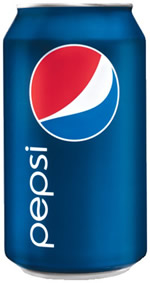pepsi: (28, 43, 118, 140)
